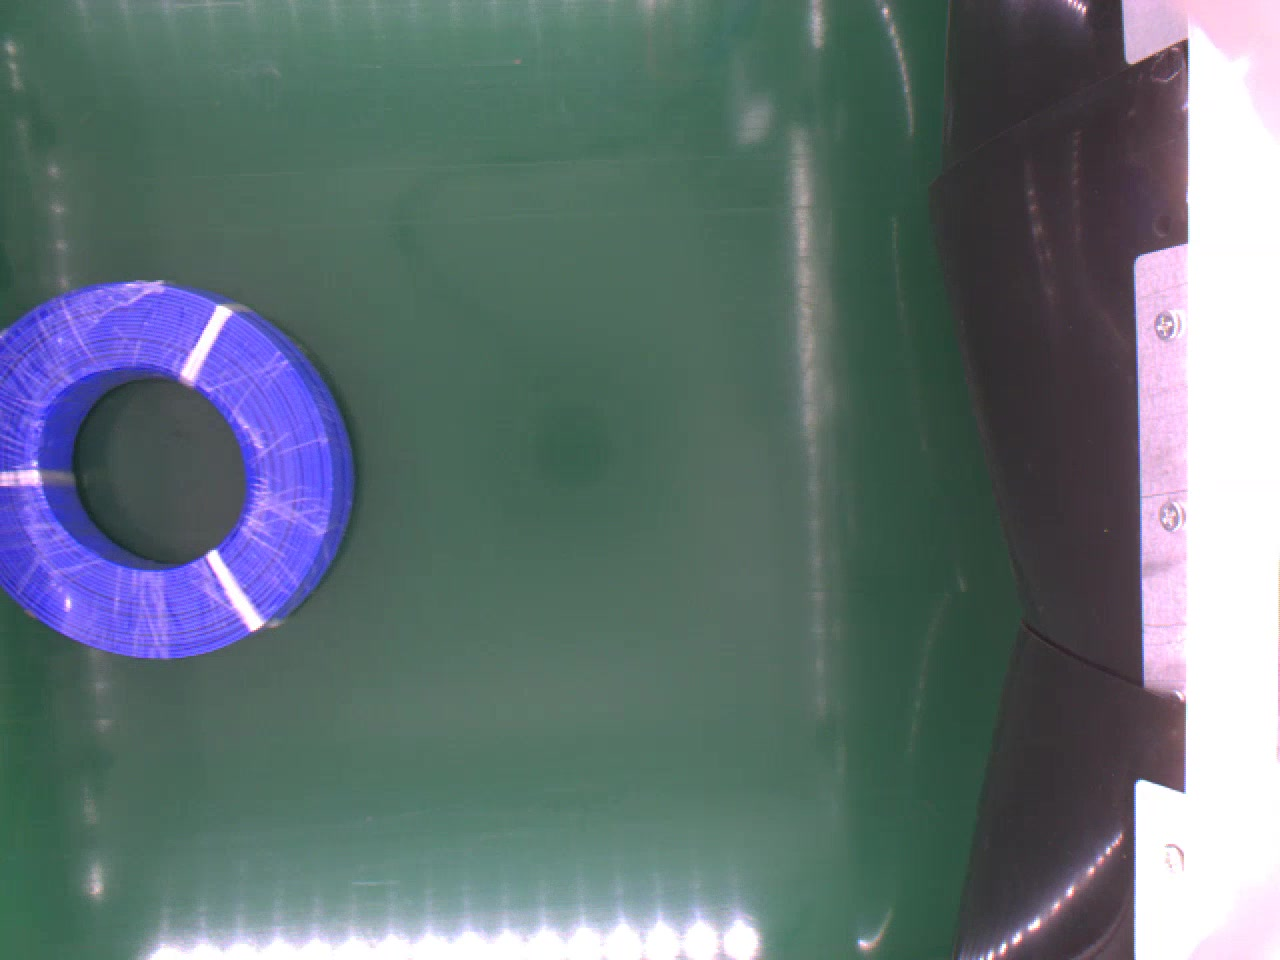blue: (0, 280, 350, 658)
